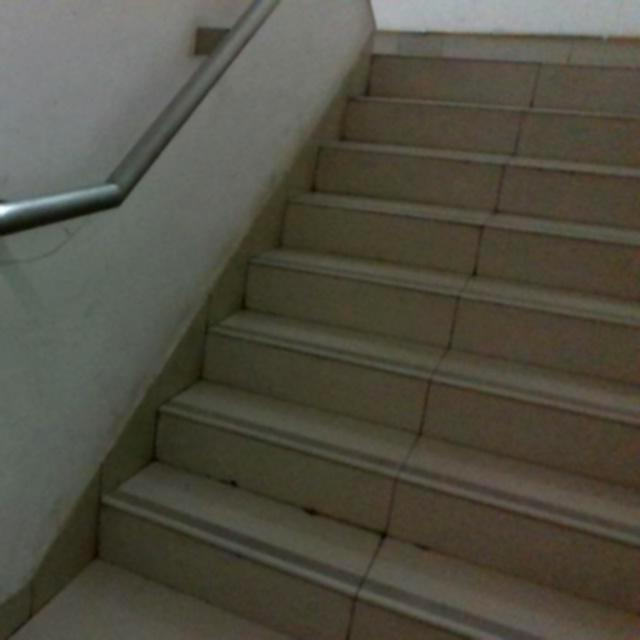stair: (88, 49, 640, 605)
